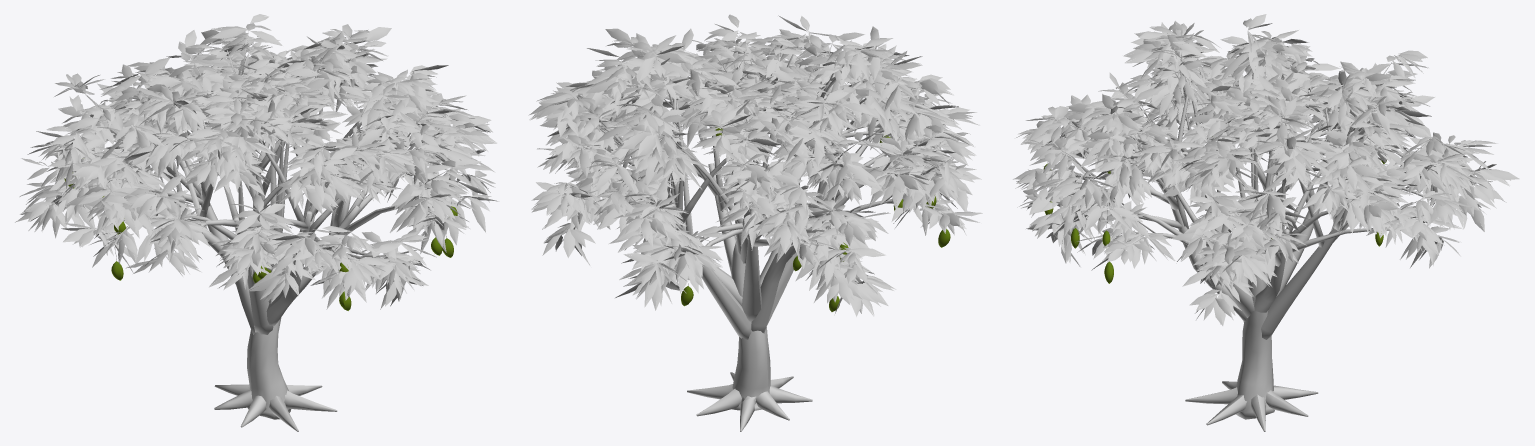
File: MangoTree_LOD1.fbx
The picture shows the model from 3 angles, left to right: view 1: azimuth 30°, elevation 25°; view 2: azimuth 150°, elevation 25°; view 3: azimuth 270°, elevation 25°; orthographic projection. The views are drawn at different scales.
Parts seen in each view (by area): view 1: Leaves_LOD1, Bark_LOD1, Fruit_LOD1; view 2: Leaves_LOD1, Bark_LOD1, Fruit_LOD1; view 3: Leaves_LOD1, Bark_LOD1, Fruit_LOD1.
Part boxes in pixels (x1,y1,x2,y2): Leaves_LOD1: (15, 14, 498, 309); Bark_LOD1: (56, 30, 463, 431); Fruit_LOD1: (64, 178, 457, 310); Leaves_LOD1: (528, 14, 982, 316); Bark_LOD1: (565, 35, 945, 431); Fruit_LOD1: (681, 127, 950, 311); Leaves_LOD1: (1013, 14, 1519, 325); Bark_LOD1: (1047, 41, 1476, 431); Fruit_LOD1: (1043, 136, 1386, 283).
Bounding box in the file's own units: 550 × 426 × 563.
